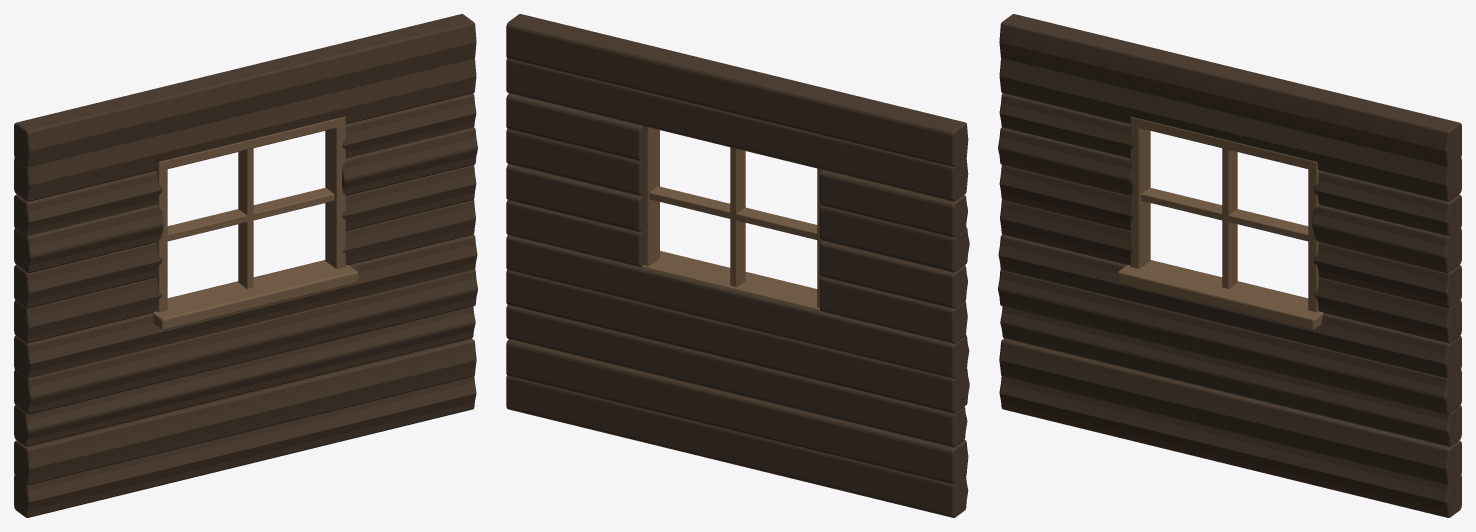
File: CabinShell.glb
The picture shows the model from 3 angles, left to right: view 1: azimuth 30°, elevation 25°; view 2: azimuth 150°, elevation 25°; view 3: azimuth 330°, elevation 25°; orthographic projection.
Parts seen in each view (by area): view 1: WallLogs, WindowFrame, WindowSill, WindowMullions; view 2: WallLogs, WindowMullions, WindowSill, WindowFrame; view 3: WallLogs, WindowFrame, WindowSill, WindowMullions.
Boxes of the visible parts, x1,y1,x2,y2 form: WallLogs: (14, 14, 477, 517); WindowFrame: (156, 116, 345, 312); WindowSill: (152, 260, 358, 330); WindowMullions: (167, 148, 334, 288); WallLogs: (506, 14, 969, 517); WindowMullions: (649, 147, 817, 287); WindowSill: (642, 251, 819, 309); WindowFrame: (642, 126, 822, 308); WallLogs: (998, 14, 1461, 517); WindowFrame: (1130, 116, 1319, 312); WindowSill: (1117, 260, 1323, 330); WindowMullions: (1141, 148, 1308, 288).
Bounding box in the file's own units: 4 × 3.31 × 0.3555.
